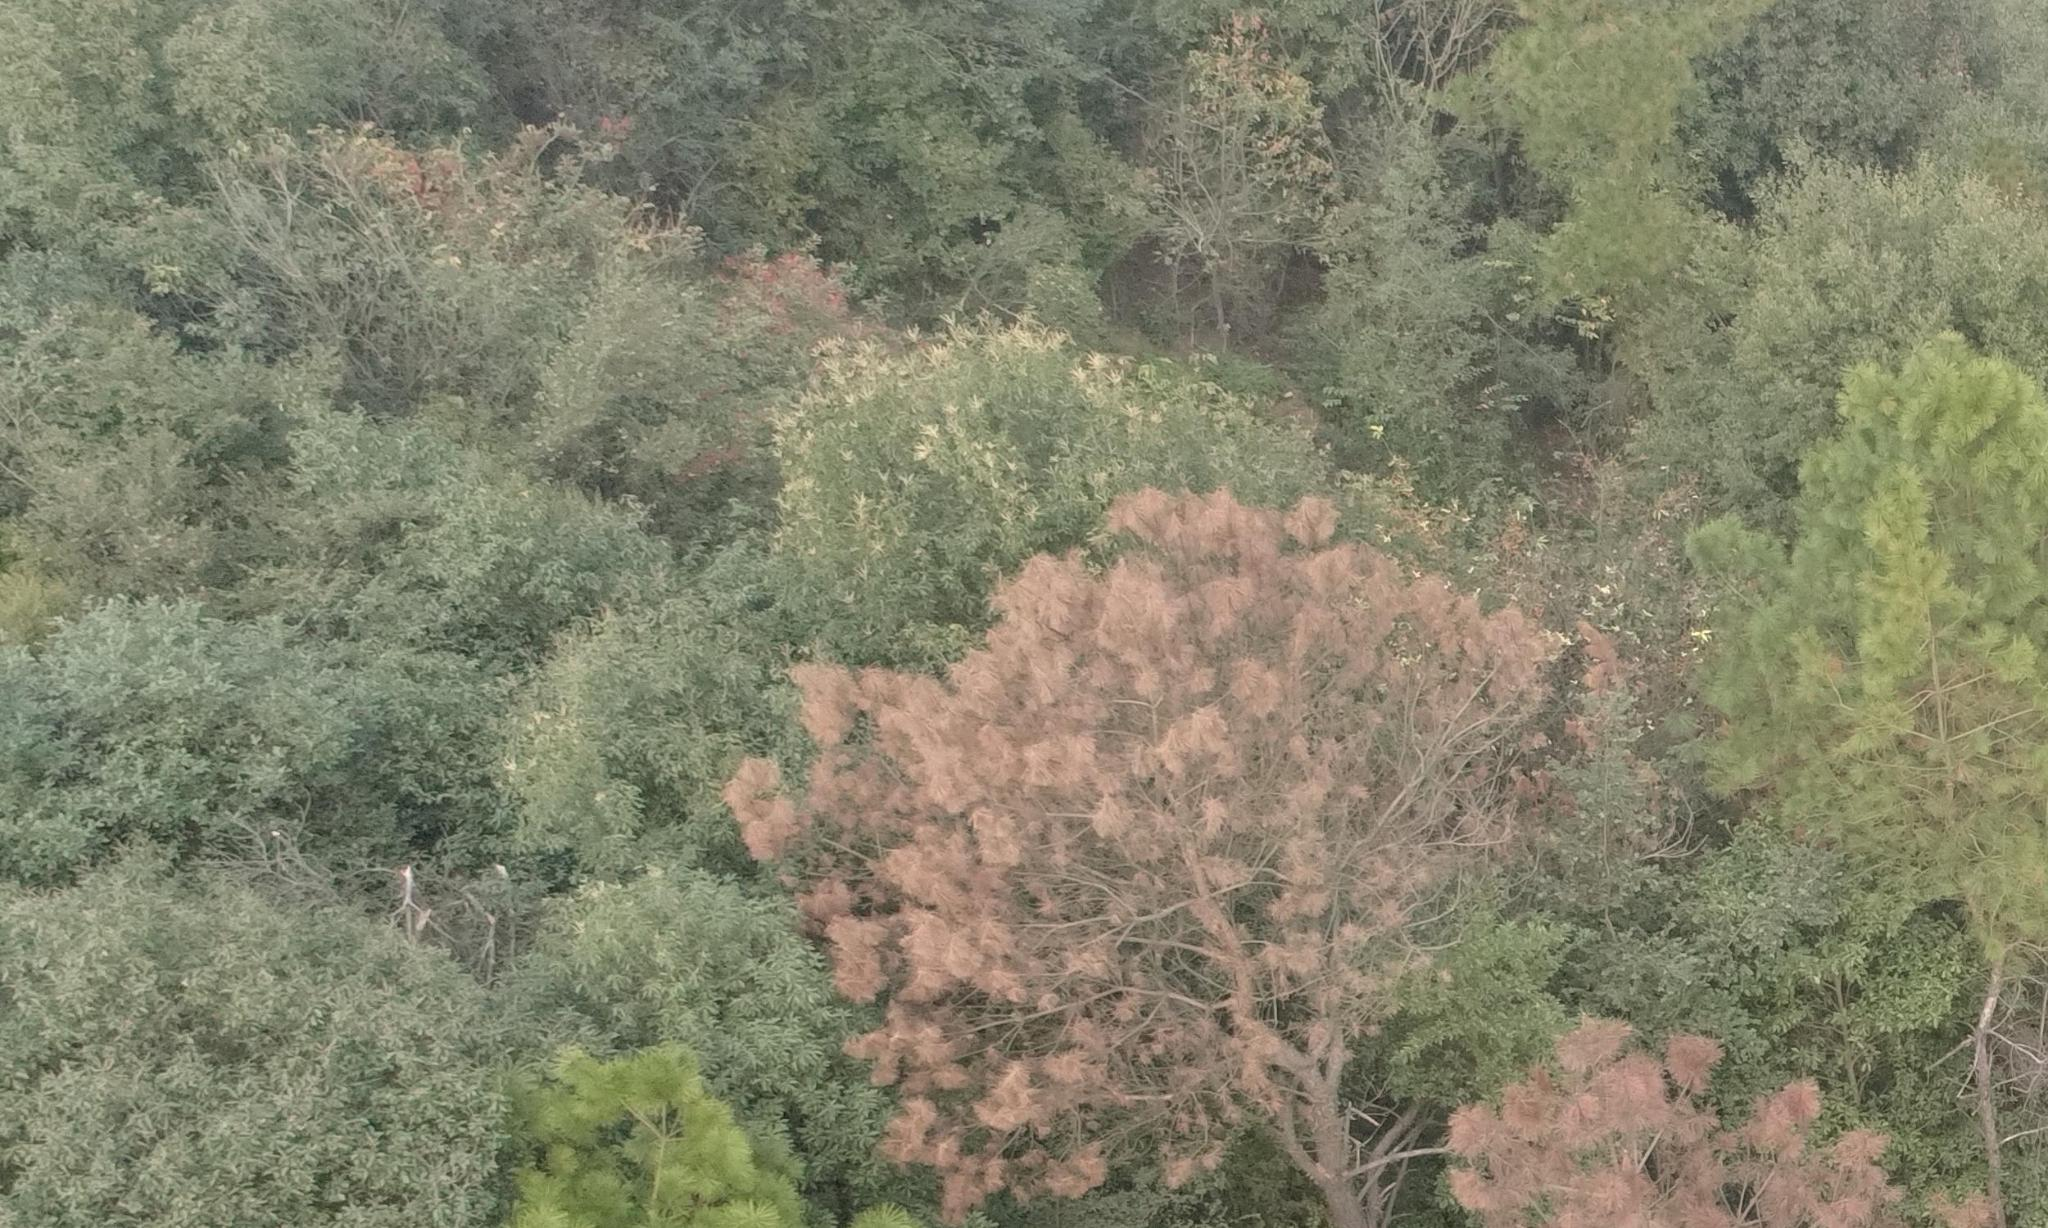heavy: (728, 482, 1422, 1200), (1453, 1009, 1971, 1216)
